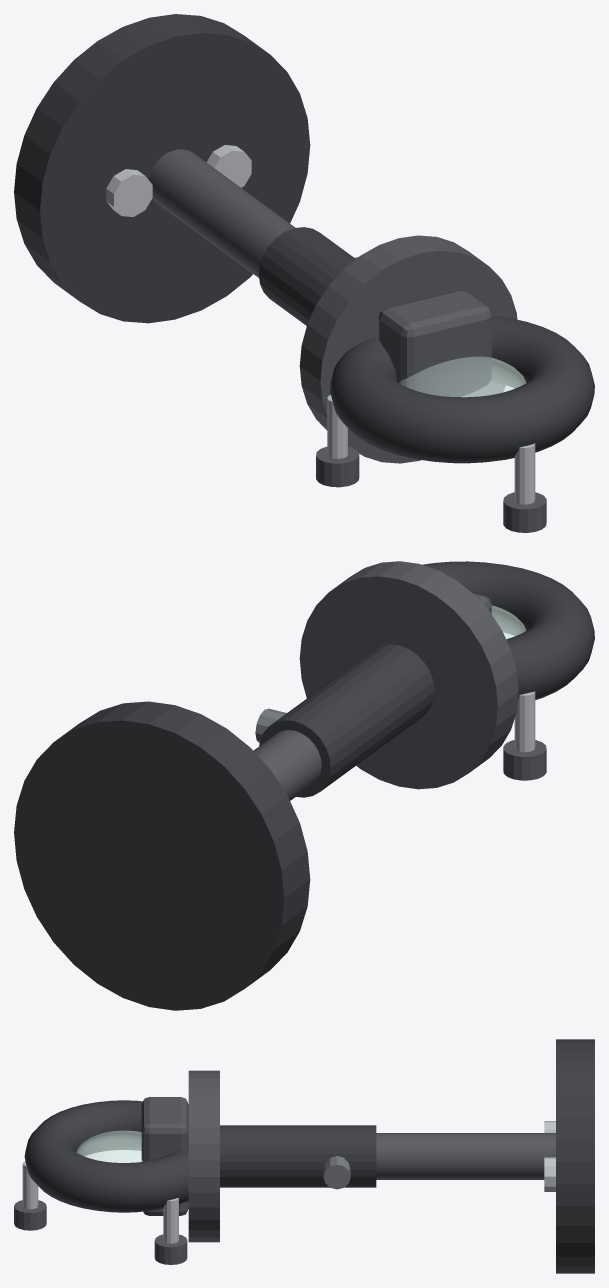
3 views of the same model, one above another, from view 1: azimuth 30°, elevation 25°; view 2: azimuth 150°, elevation 25°; view 3: azimuth 270°, elevation 25° (orthographic). The views are drawn at different scales.
Parts seen in each view (by area): view 1: L2_base, L2m_ring, L2m_plate, L2m_crown, L2_post, L2m_sleeve, L2m_lens, L2_bscrew, L2m_knob, L2m_knob.001, L2m_adj, L2_bscrew.001 (+1 smaller); view 2: L2_base, L2m_plate, L2m_sleeve, L2m_ring, L2_post, L2m_knob.001, L2m_adj.001, L2m_lens; view 3: L2m_ring, L2m_sleeve, L2_base, L2_post, L2m_plate, L2m_crown, L2m_lens, L2m_knob.002, L2m_knob, L2m_lockknob, L2m_adj.002, L2m_adj (+1 smaller).
Boxes of the visible parts, x1,y1,x2,y2 form: L2_base: [14, 14, 310, 323]; L2m_ring: [330, 315, 594, 463]; L2m_plate: [299, 235, 517, 463]; L2m_crown: [378, 291, 491, 396]; L2_post: [148, 149, 295, 277]; L2m_sleeve: [258, 227, 355, 325]; L2m_lens: [399, 356, 526, 397]; L2_bscrew: [106, 169, 152, 216]; L2m_knob: [503, 492, 546, 532]; L2m_knob.001: [316, 446, 359, 487]; L2m_adj: [514, 443, 535, 504]; L2_bscrew.001: [206, 145, 251, 187]; L2_base: [14, 701, 310, 1010]; L2m_plate: [299, 561, 518, 789]; L2m_sleeve: [259, 644, 434, 797]; L2m_ring: [422, 561, 594, 699]; L2_post: [253, 730, 321, 800]; L2m_knob.001: [503, 740, 546, 780]; L2m_adj.001: [514, 691, 535, 752]; L2m_lens: [491, 605, 526, 639]; L2m_ring: [24, 1100, 188, 1212]; L2m_sleeve: [220, 1125, 376, 1187]; L2_base: [556, 1039, 594, 1273]; L2_post: [376, 1133, 555, 1179]; L2m_plate: [188, 1070, 219, 1242]; L2m_crown: [141, 1097, 188, 1215]; L2m_lens: [76, 1130, 142, 1162]; L2m_knob.002: [154, 1234, 187, 1264]; L2m_knob: [14, 1200, 46, 1230]; L2m_lockknob: [323, 1156, 350, 1189]; L2m_adj.002: [163, 1198, 178, 1243]; L2m_adj: [22, 1161, 38, 1209].
Bounding box in the file's own units: 0.06 × 0.06 × 0.1487.
